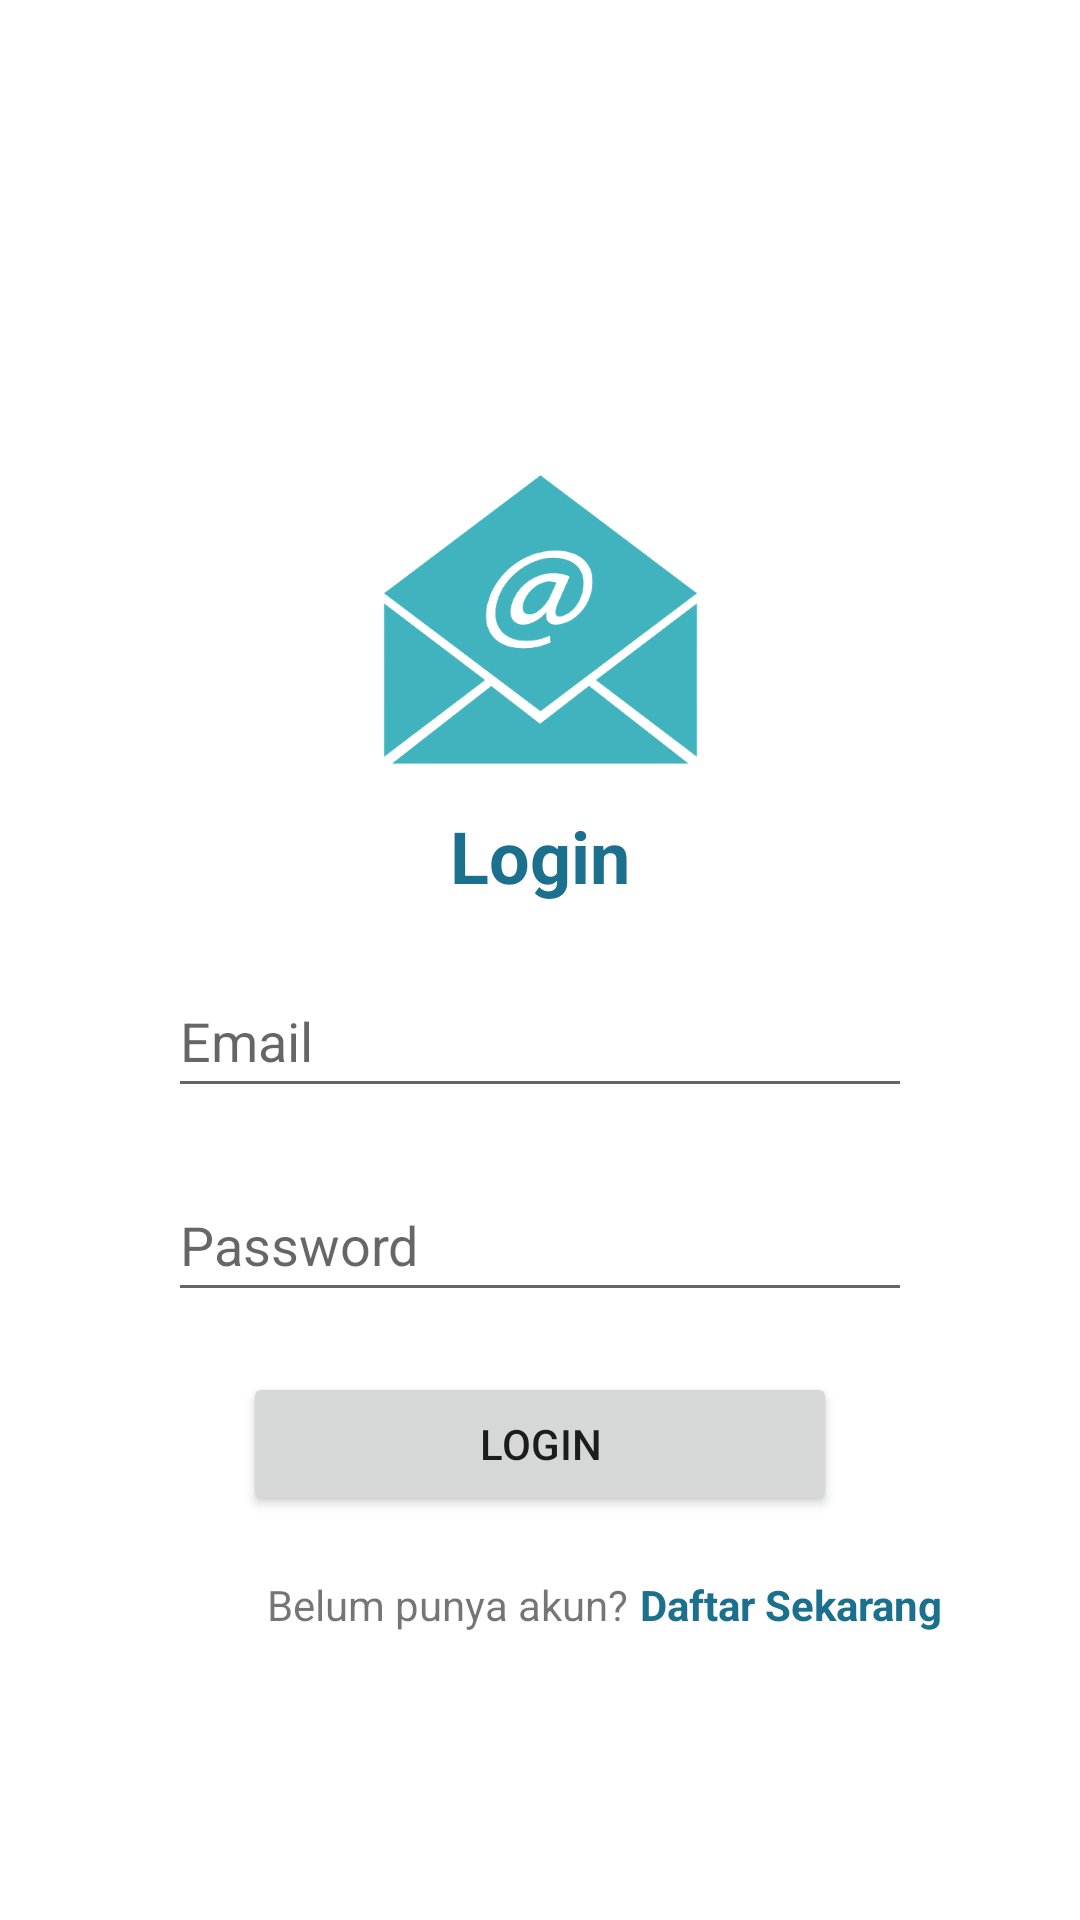

Icons on this 1080w x 1920h Android screen, each with its box as bbox=(x1, y1, x2, y2):
email: bbox=(384, 475, 697, 764)
